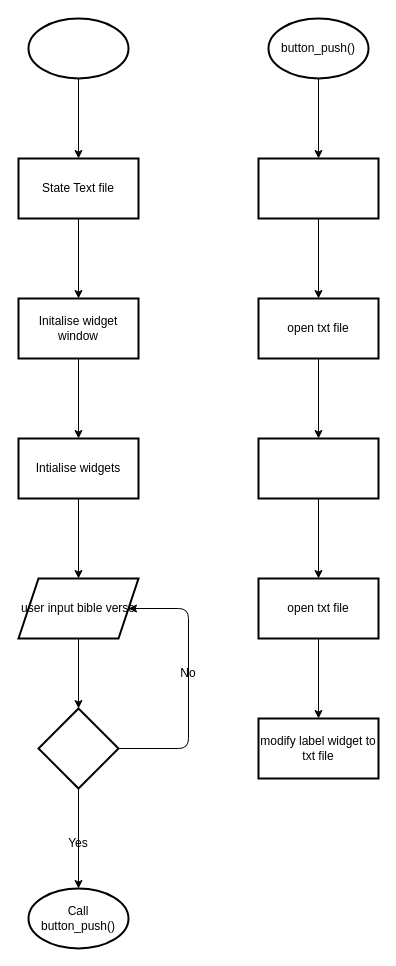
This 396x966 diagram has some shape labels left out. The shapes that lost their labels are listed below. From the top down, each one's centre as x and y in pixels, then its label:
the point at 78,48: Start
the point at 318,188: Initalise user input
the point at 318,468: write user input
the point at 78,748: if button is pushed
